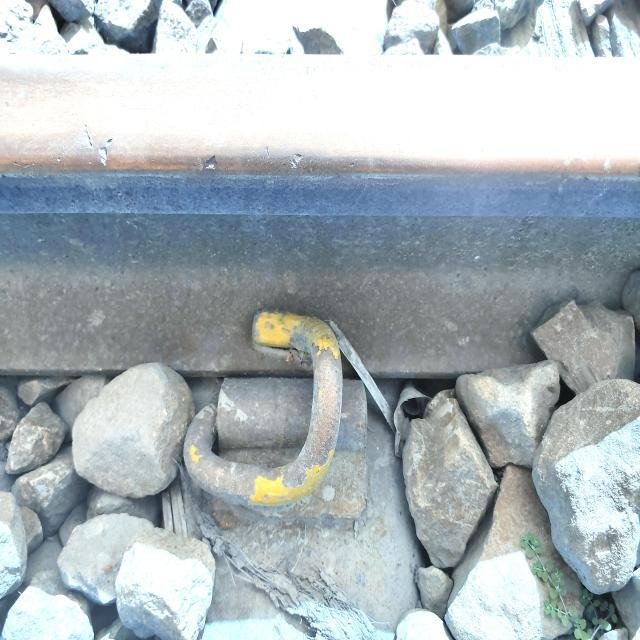Good Fasteners: (189, 288, 374, 521)
